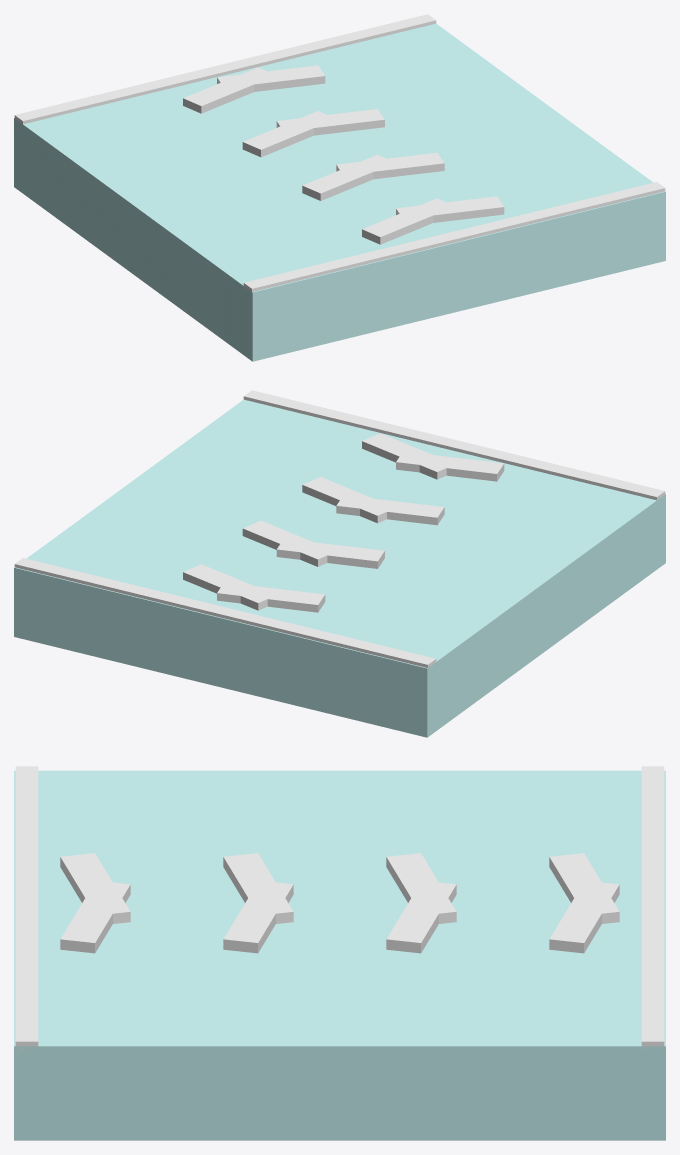
Rendered from Conveyor_Thin.glb.
3 views of the same model, one above another, from view 1: azimuth 30°, elevation 25°; view 2: azimuth 150°, elevation 25°; view 3: azimuth 270°, elevation 25° (orthographic). The views are drawn at different scales.
Parts seen in each view (by area): view 1: Conveyor_Thin_body, rail_-0.004, rail_0.004, chev_2_-1.004, chev_0_1.004, chev_3_1.004, chev_1_1.004, chev_1_-1.004, chev_3_-1.004, chev_2_1.004, chev_0_-1.004; view 2: Conveyor_Thin_body, rail_-0.004, rail_0.004, chev_0_1.004, chev_2_1.004, chev_3_1.004, chev_1_1.004, chev_3_-1.004, chev_0_-1.004, chev_1_-1.004, chev_2_-1.004; view 3: Conveyor_Thin_body, rail_-0.004, rail_0.004, chev_2_-1.004, chev_1_-1.004, chev_3_-1.004, chev_0_-1.004, chev_3_1.004, chev_0_1.004, chev_1_1.004, chev_2_1.004.
Part boxes in pixels (x1,y1,x2,y2): Conveyor_Thin_body: (14, 23, 665, 361); rail_-0.004: (243, 182, 665, 291); rail_0.004: (14, 14, 436, 124); chev_2_-1.004: (276, 109, 384, 135); chev_0_1.004: (362, 198, 454, 244); chev_3_1.004: (183, 67, 275, 113); chev_1_1.004: (302, 154, 388, 200); chev_1_-1.004: (336, 152, 444, 179); chev_3_-1.004: (217, 65, 325, 91); chev_2_1.004: (242, 111, 326, 157); chev_0_-1.004: (396, 196, 504, 222); Conveyor_Thin_body: (14, 399, 665, 737); rail_-0.004: (243, 390, 665, 500); rail_0.004: (14, 558, 436, 668); chev_0_1.004: (396, 451, 504, 481); chev_2_1.004: (276, 539, 384, 568); chev_3_1.004: (217, 583, 325, 612); chev_1_1.004: (336, 495, 444, 525); chev_3_-1.004: (183, 564, 275, 610); chev_0_-1.004: (362, 433, 454, 479); chev_1_-1.004: (302, 477, 395, 523); chev_2_-1.004: (242, 520, 335, 566); Conveyor_Thin_body: (14, 770, 665, 1140); rail_-0.004: (15, 766, 38, 1050); rail_0.004: (641, 766, 664, 1049); chev_2_-1.004: (386, 882, 456, 953); chev_1_-1.004: (223, 882, 293, 953); chev_3_-1.004: (549, 882, 619, 953); chev_0_-1.004: (60, 882, 130, 953); chev_3_1.004: (549, 853, 619, 923); chev_0_1.004: (60, 853, 130, 923); chev_1_1.004: (223, 853, 293, 923); chev_2_1.004: (386, 853, 456, 923).
Bounding box in the file's own units: 1 × 0.1775 × 1.
